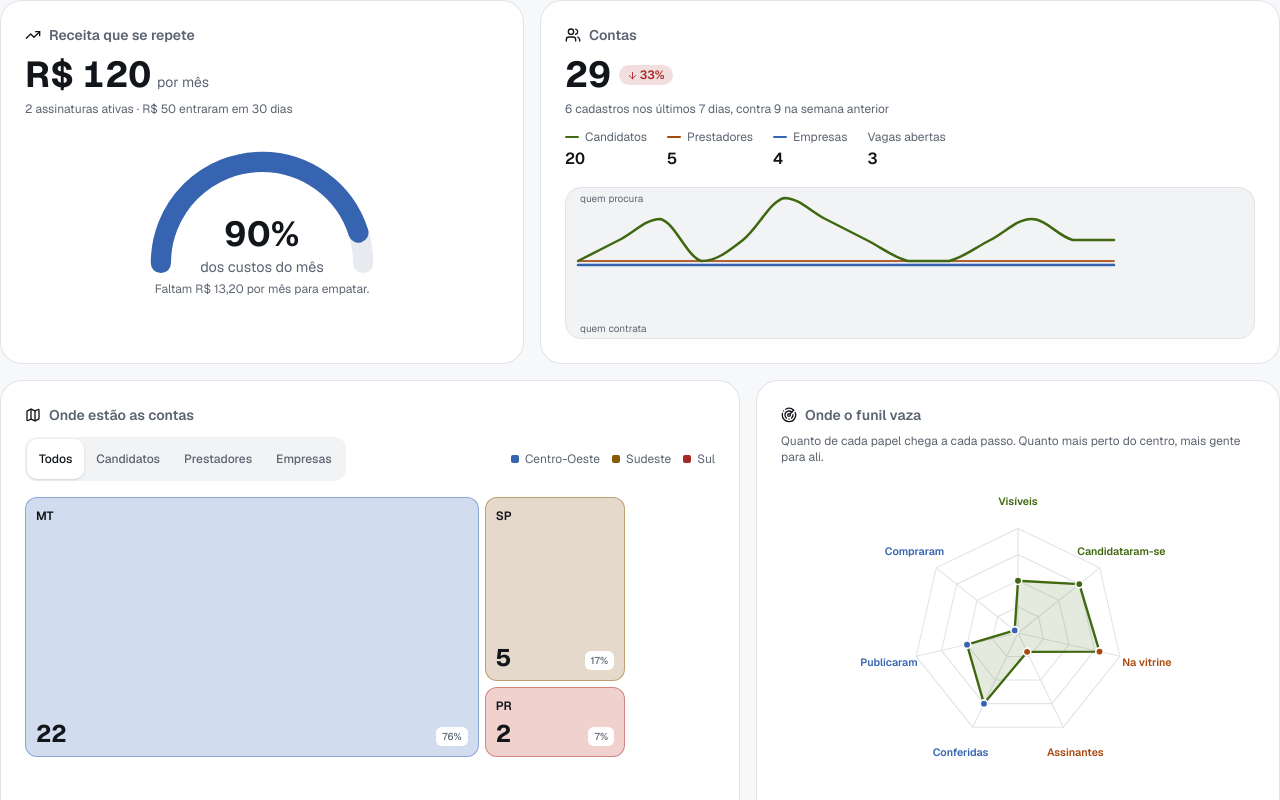
Test: tela da visão geral › o mapa troca de papel e diz quais estados entram
This screenshot has width=1280, height=800.
Expected: the picture named "MT 22, SP 5, PR 2" is shown, [25,497,715,757]
Click the button "Empresas".
click(304, 459)  # box [264,439,344,479]
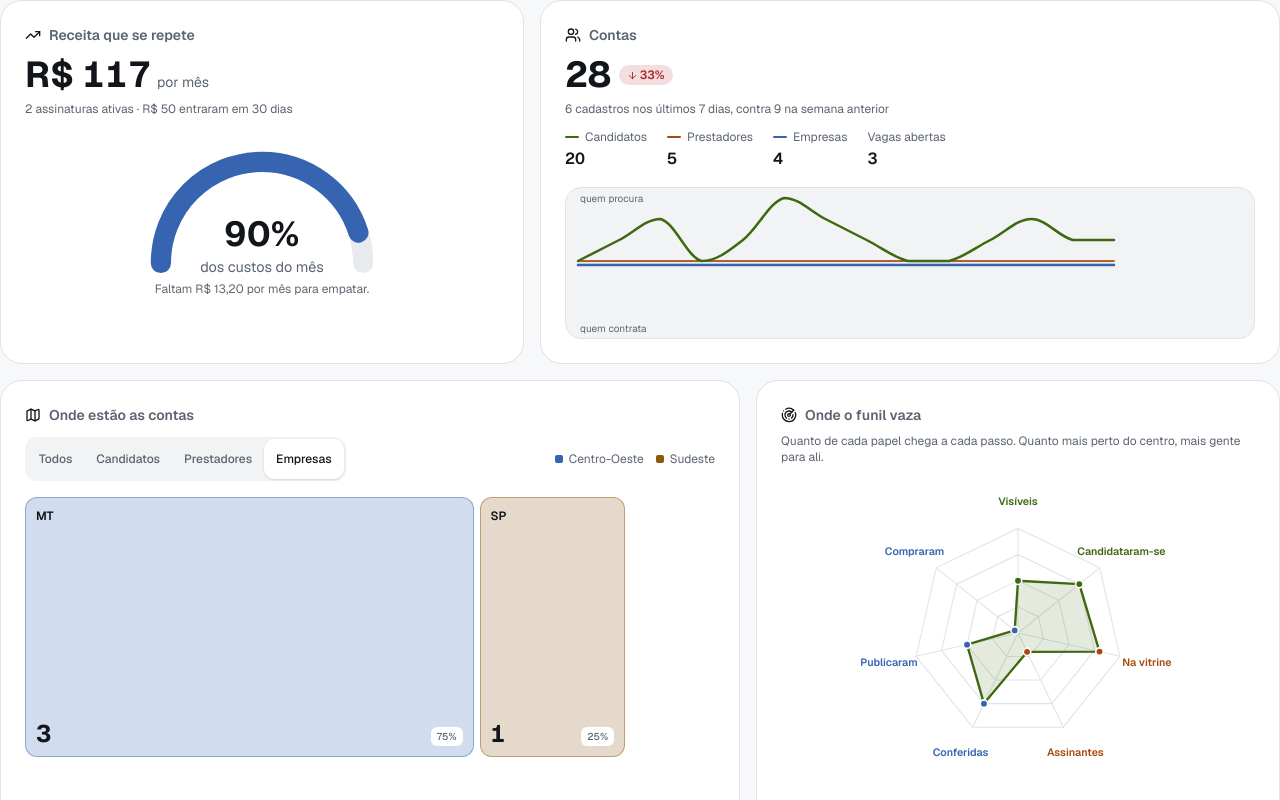
Expected: the picture named "MT 3, SP 1" is shown, [25,497,715,757]
